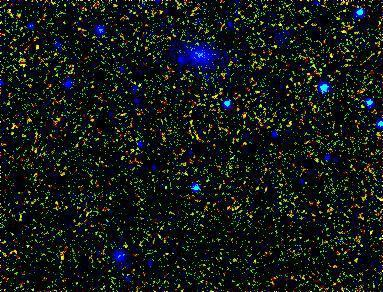star: (169, 137, 199, 167)
